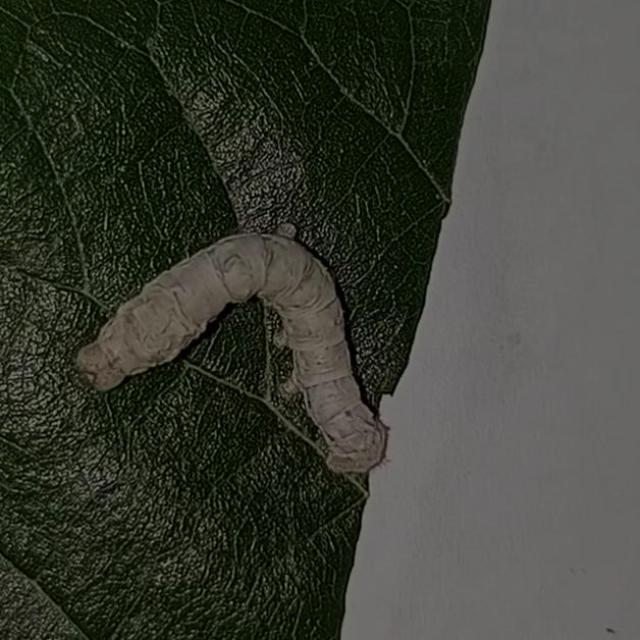Healthy: (59, 196, 402, 530)
